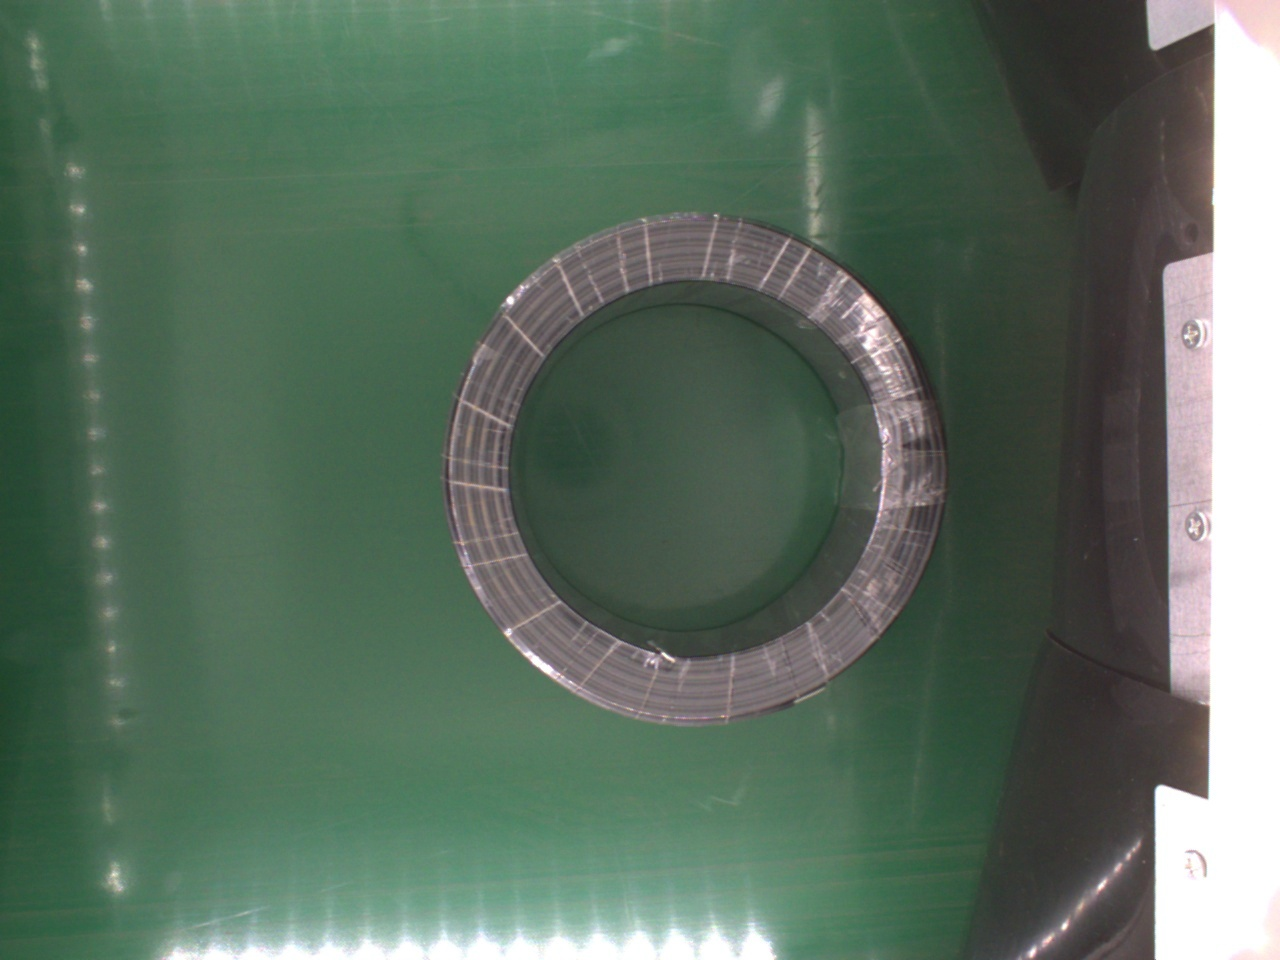black: (447, 213, 946, 723)
